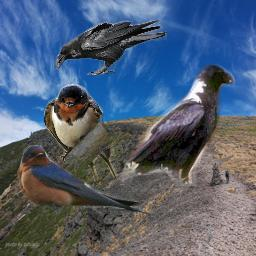Crow: (122, 60, 235, 186), (55, 20, 167, 75)
Swallow: (17, 145, 155, 216), (44, 84, 118, 181)
